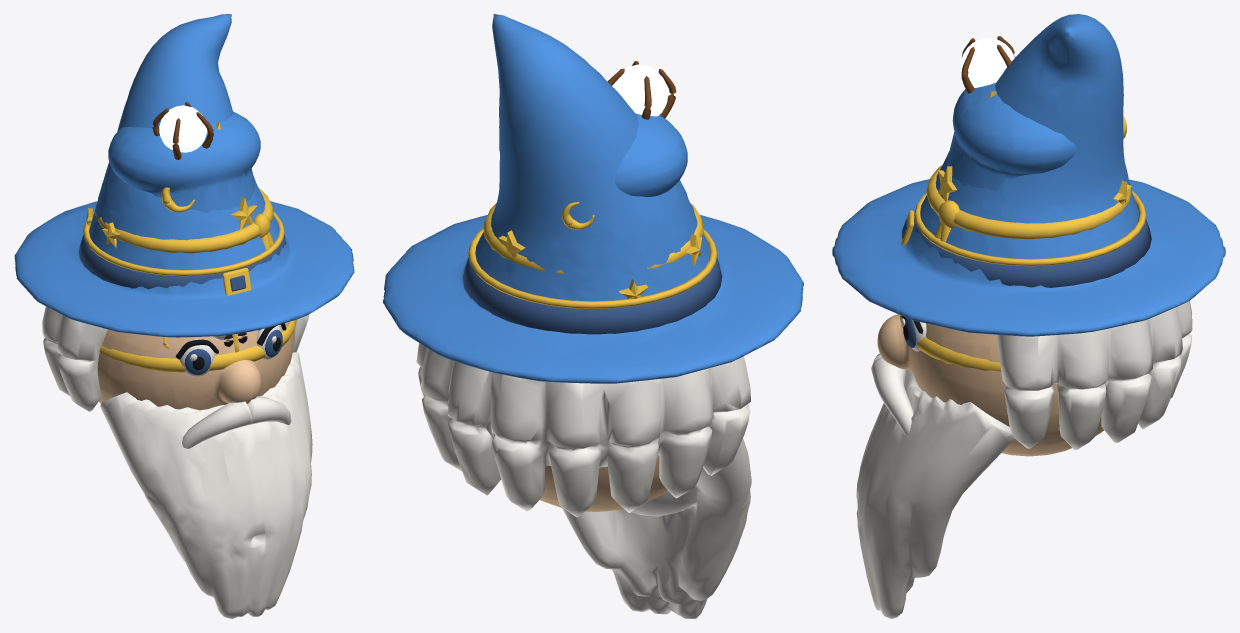
The model's file is wizard.glb.
3 views of the same model, side by side, from view 1: azimuth 30°, elevation 25°; view 2: azimuth 150°, elevation 25°; view 3: azimuth 270°, elevation 25° (orthographic). The views are drawn at different scales.
Parts seen in each view (by area): view 1: wizard_Head, wizard_Body, wizard_HandR; view 2: wizard_Head, wizard_Body, wizard_HandR; view 3: wizard_Head, wizard_Body, wizard_HandR.
Part boxes in pixels (<box>): wizard_Head: <box>14,14,354,618</box>; wizard_Body: <box>95,111,296,372</box>; wizard_HandR: <box>152,102,213,159</box>; wizard_Head: <box>383,14,803,618</box>; wizard_Body: <box>483,113,703,275</box>; wizard_HandR: <box>607,61,676,119</box>; wizard_Head: <box>832,14,1225,618</box>; wizard_Body: <box>900,82,1131,371</box>; wizard_HandR: <box>961,36,1015,93</box>.
Size of the model in its own units: 0.2981 by 0.5102 by 0.298.
